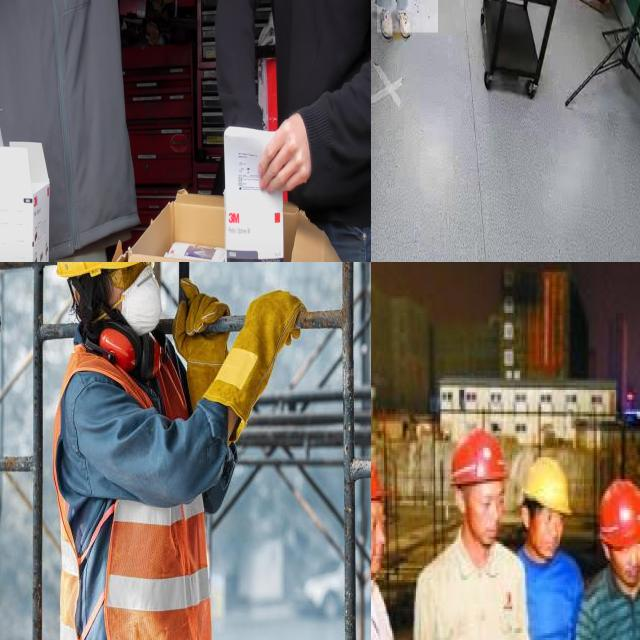Ear-protection: (81, 314, 166, 377)
No_Ear-Protection: (450, 468, 510, 539), (518, 488, 564, 555), (371, 490, 388, 580)
glasses: (103, 262, 162, 290)
hand_glove: (205, 283, 312, 441), (168, 273, 226, 412)
person: (46, 262, 322, 640)
shoes: (394, 1, 413, 45), (376, 5, 394, 42)
